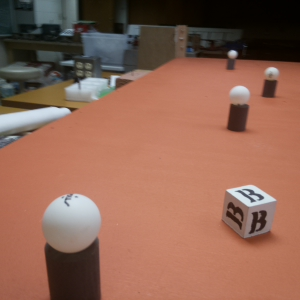blockB: (222, 184, 278, 237)
corner: (173, 24, 190, 60)
obstacle: (41, 191, 105, 299), (228, 86, 248, 133), (262, 66, 279, 101), (226, 49, 238, 71)
